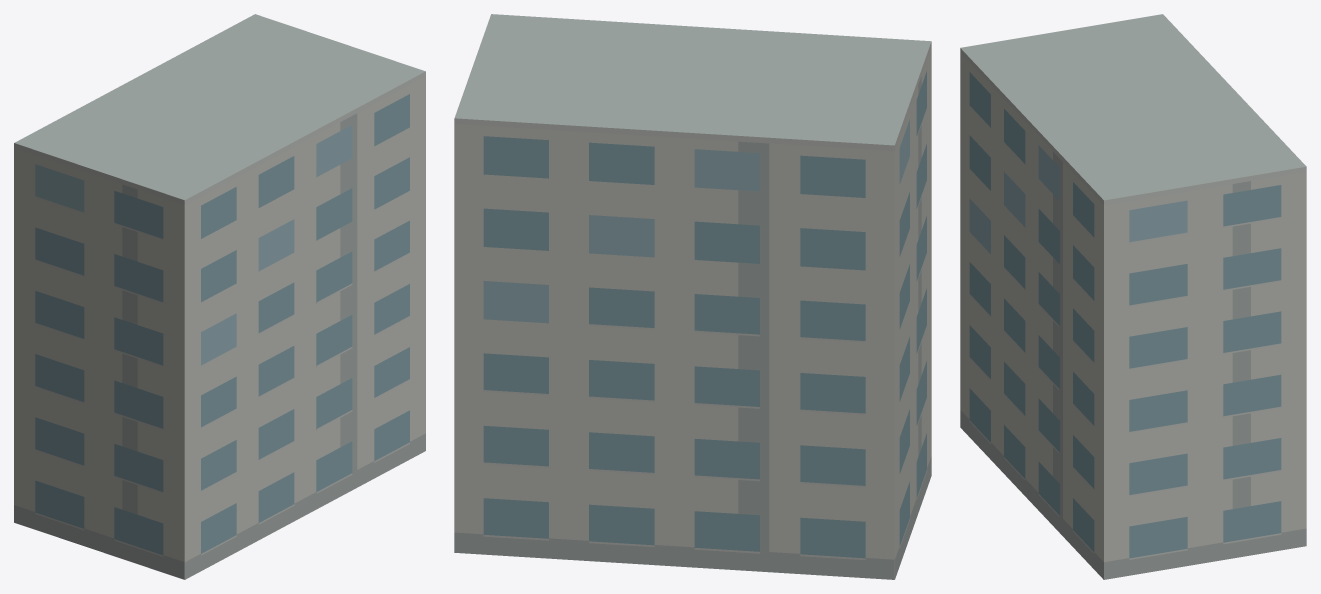
The model's file is survey-upis-32580296.glb.
3 views of the same model, side by side, from view 1: azimuth 30°, elevation 25°; view 2: azimuth 150°, elevation 25°; view 3: azimuth 270°, elevation 25° (orthographic). The views are drawn at different scales.
Parts seen in each view (by area): view 1: survey-upis-32580296.tmp; view 2: survey-upis-32580296.tmp; view 3: survey-upis-32580296.tmp.
Part boxes in pixels (box(x1,y1,x2,y2)): survey-upis-32580296.tmp: box(14, 14, 425, 579); survey-upis-32580296.tmp: box(454, 14, 931, 579); survey-upis-32580296.tmp: box(960, 14, 1306, 579).
Bounding box in the file's own units: 19.29 × 18.3 × 15.15.
